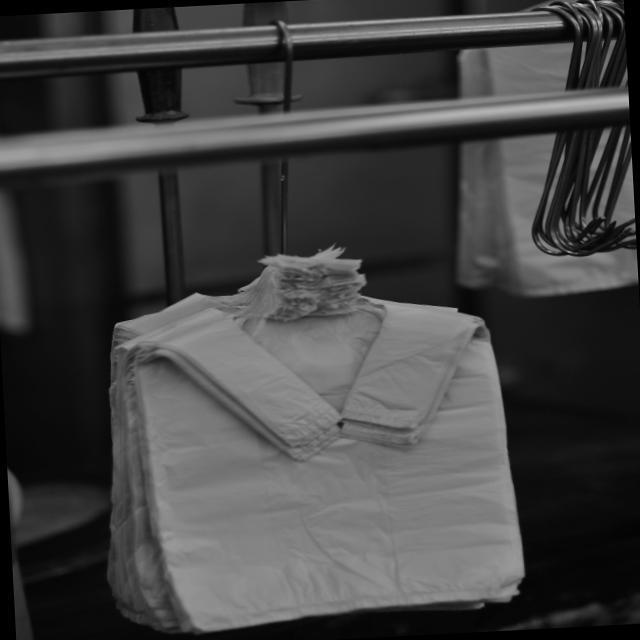KantongPlastik: (105, 247, 526, 634)
